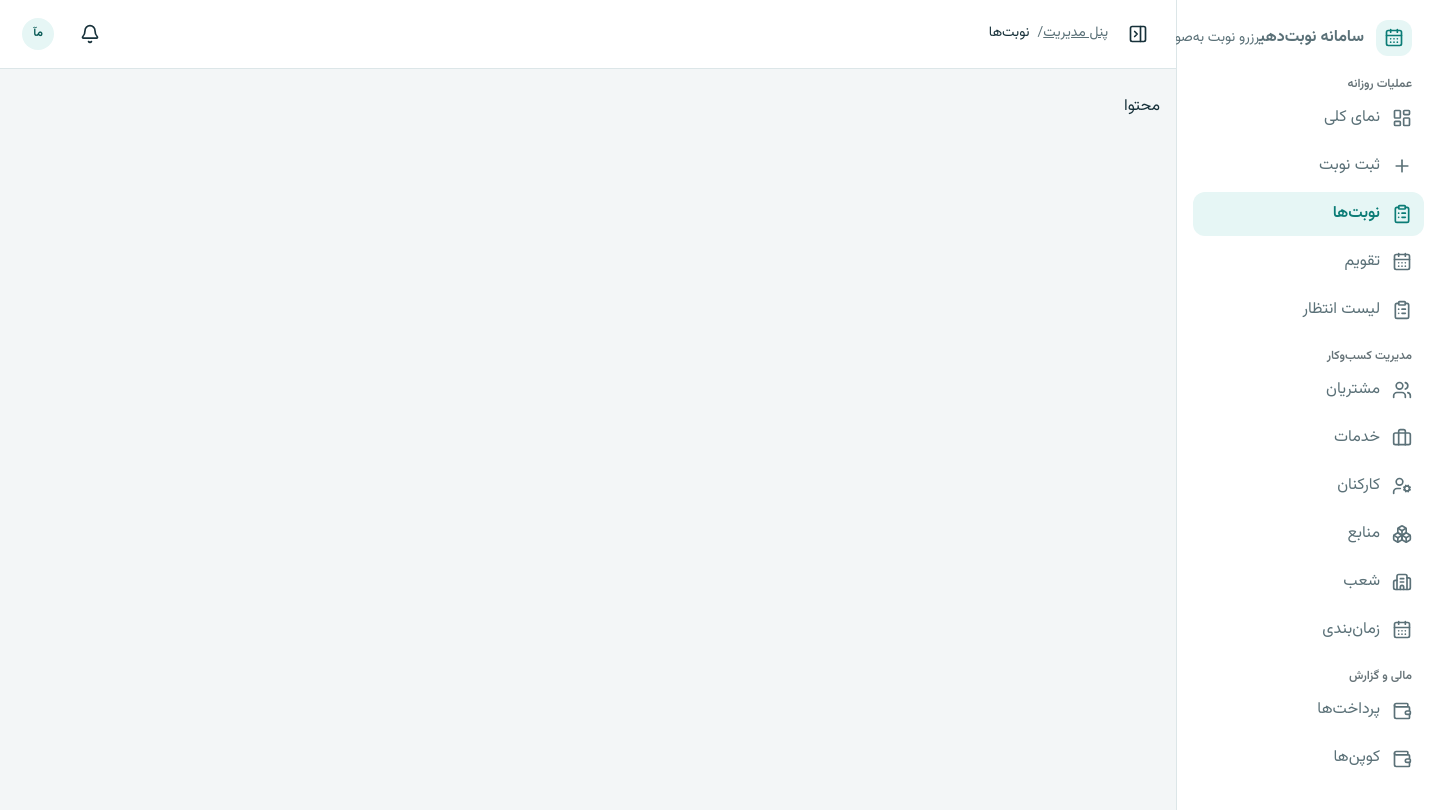
AdminShell › shows notification shell without fake items
Click the button named "اعلان‌های مدیریت" at coordinates (90, 34), box 68,12 -> 112,56
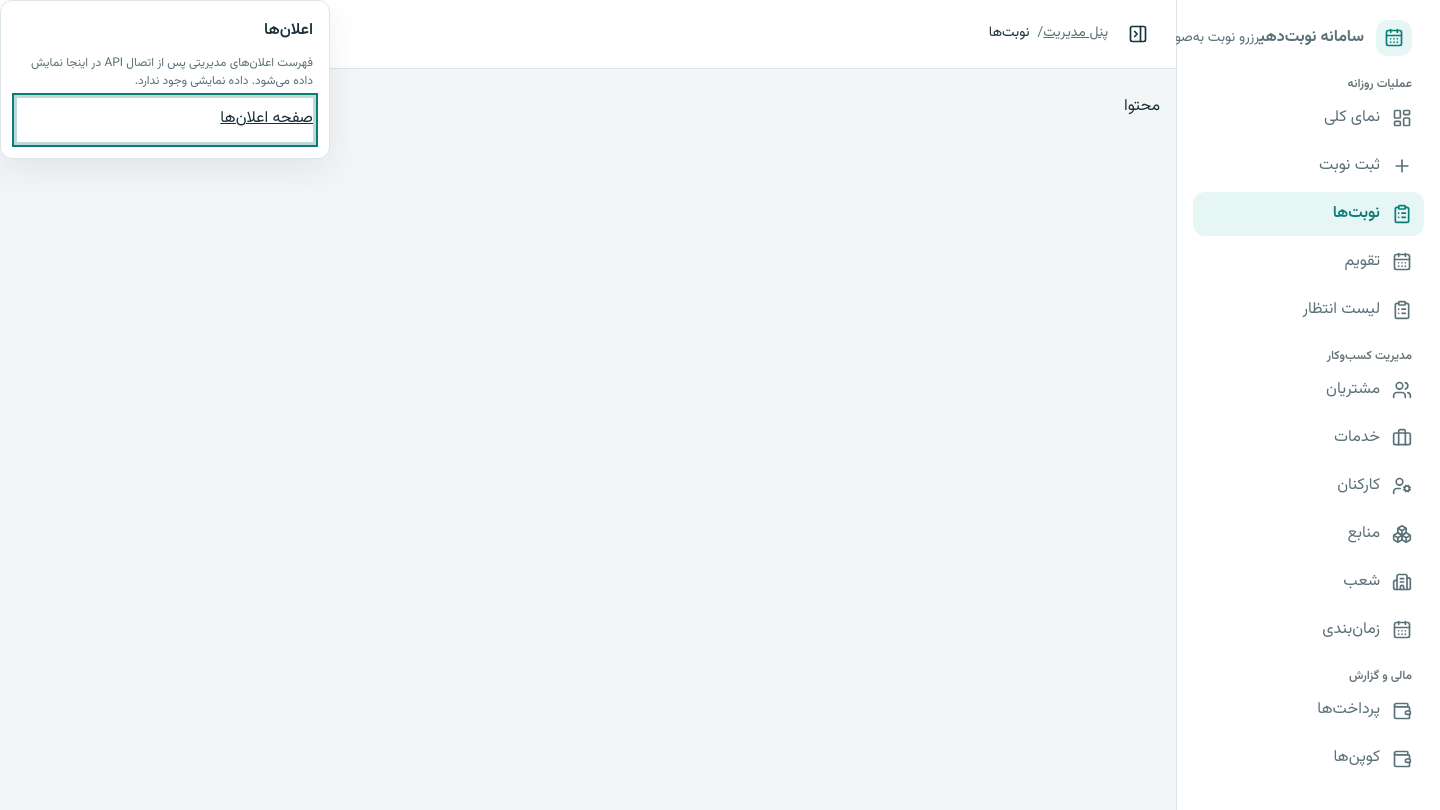
Now the text "پس از اتصال API" is shown, box 31,54 -> 313,90
